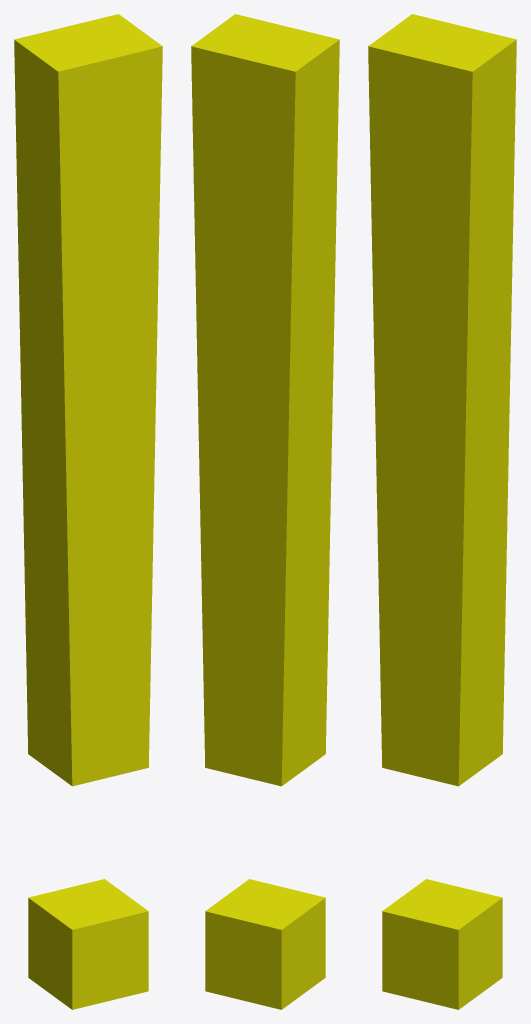
3 renders of one model, left to right at view 1: azimuth 30°, elevation 25°; view 2: azimuth 150°, elevation 25°; view 3: azimuth 330°, elevation 25°, orthographic.
Parts seen in each view (by area): view 1: pCube3; view 2: pCube3; view 3: pCube3.
Boxes of the visible parts, <box> form: pCube3: <box>14,14,162,1009</box>; pCube3: <box>191,14,339,1009</box>; pCube3: <box>368,14,516,1009</box>.
Bounding box in the file's own units: 1.89 × 16.29 × 1.39.
